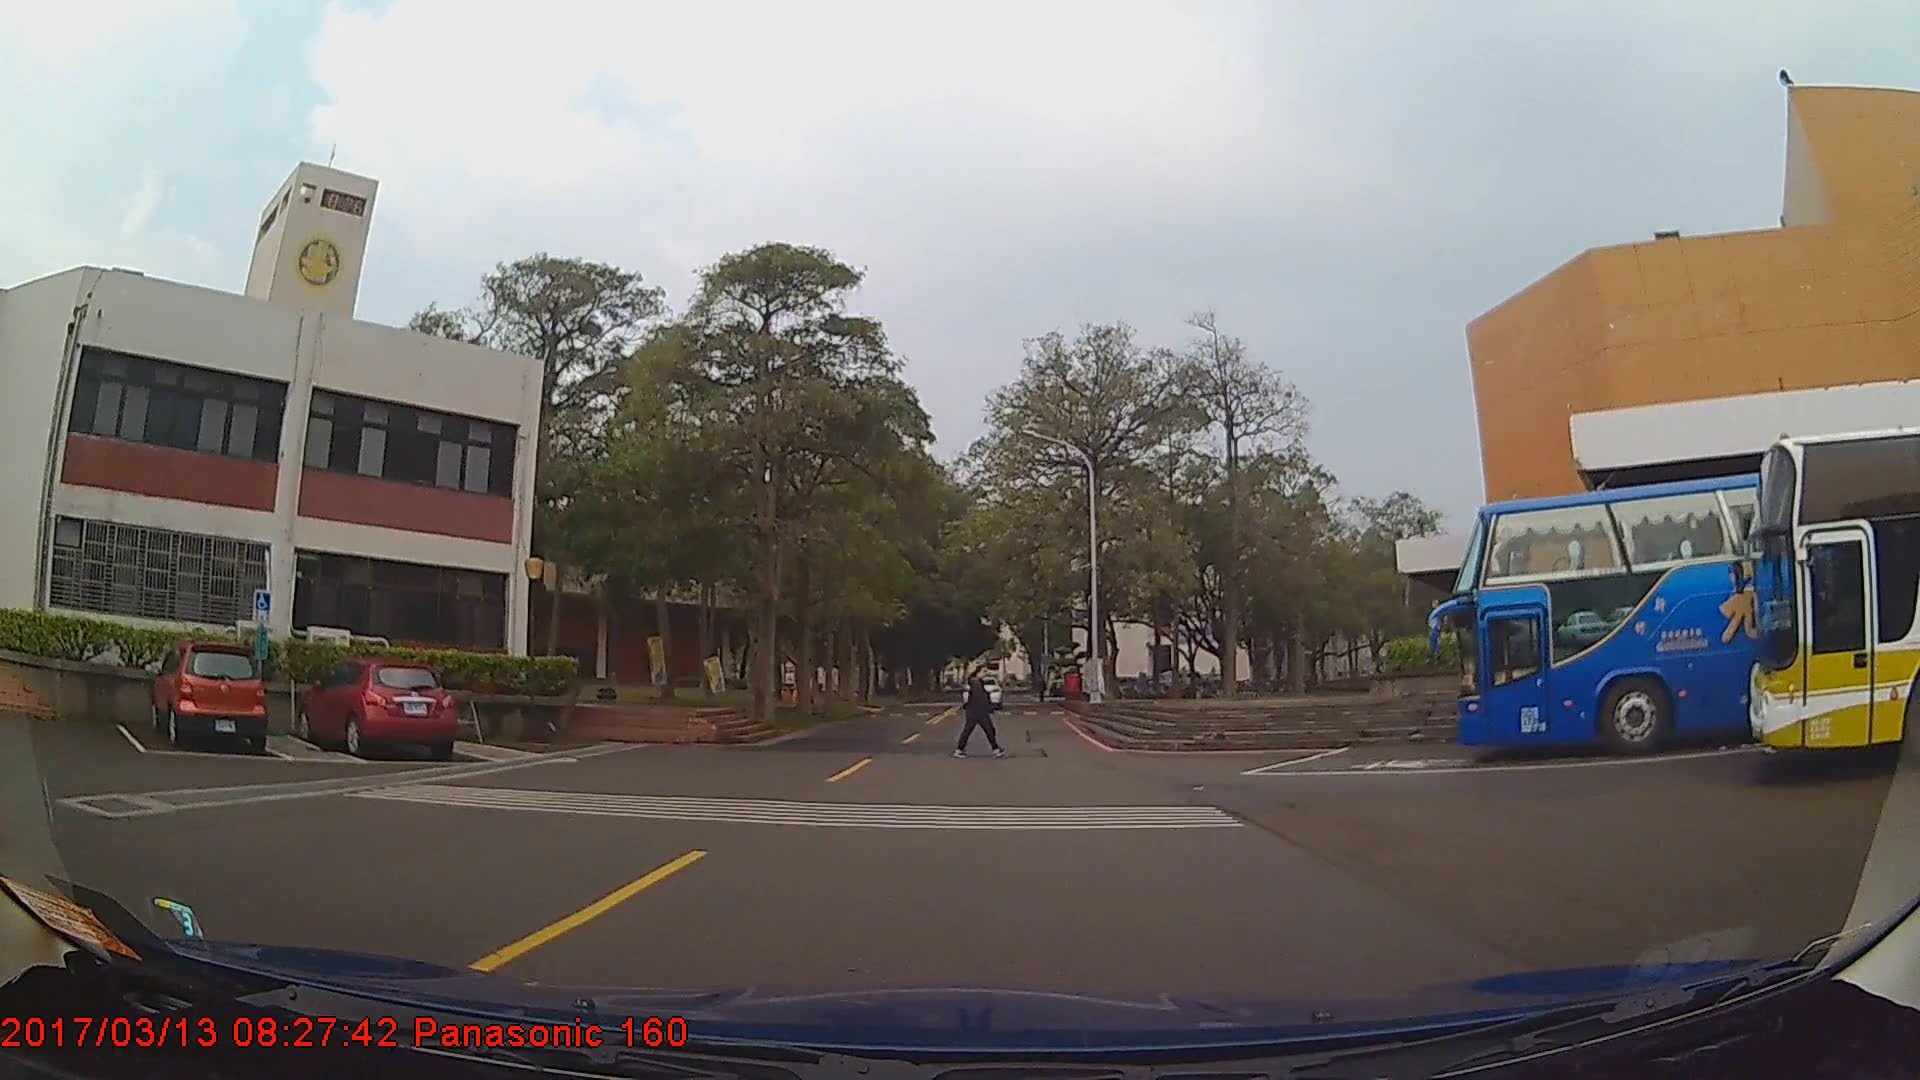pedestrian: (955, 663, 1004, 763)
vehicle: (1456, 451, 1920, 760), (1750, 422, 1920, 773), (293, 661, 453, 760), (148, 642, 265, 753)
